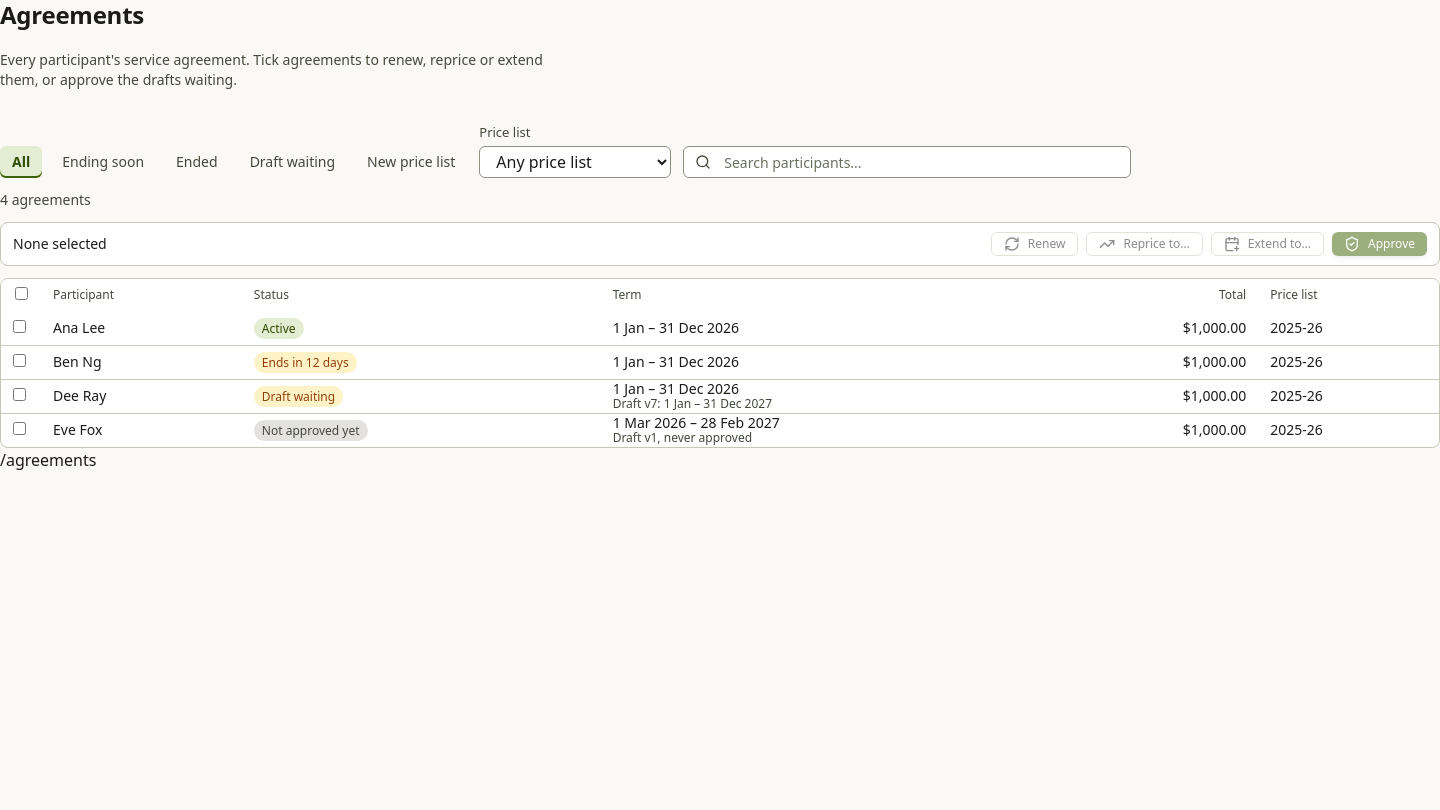
Scenario: AgreementsPage › tells a 403 the role cannot approve, with no "Try again"
The width and height of the screenshot is (1440, 810).
What coordinates should you click on to do the following:
click the checkbox named "Select row Dee Ray"
I would click on:
 (20, 395)
Its box is [13,388,26,401].
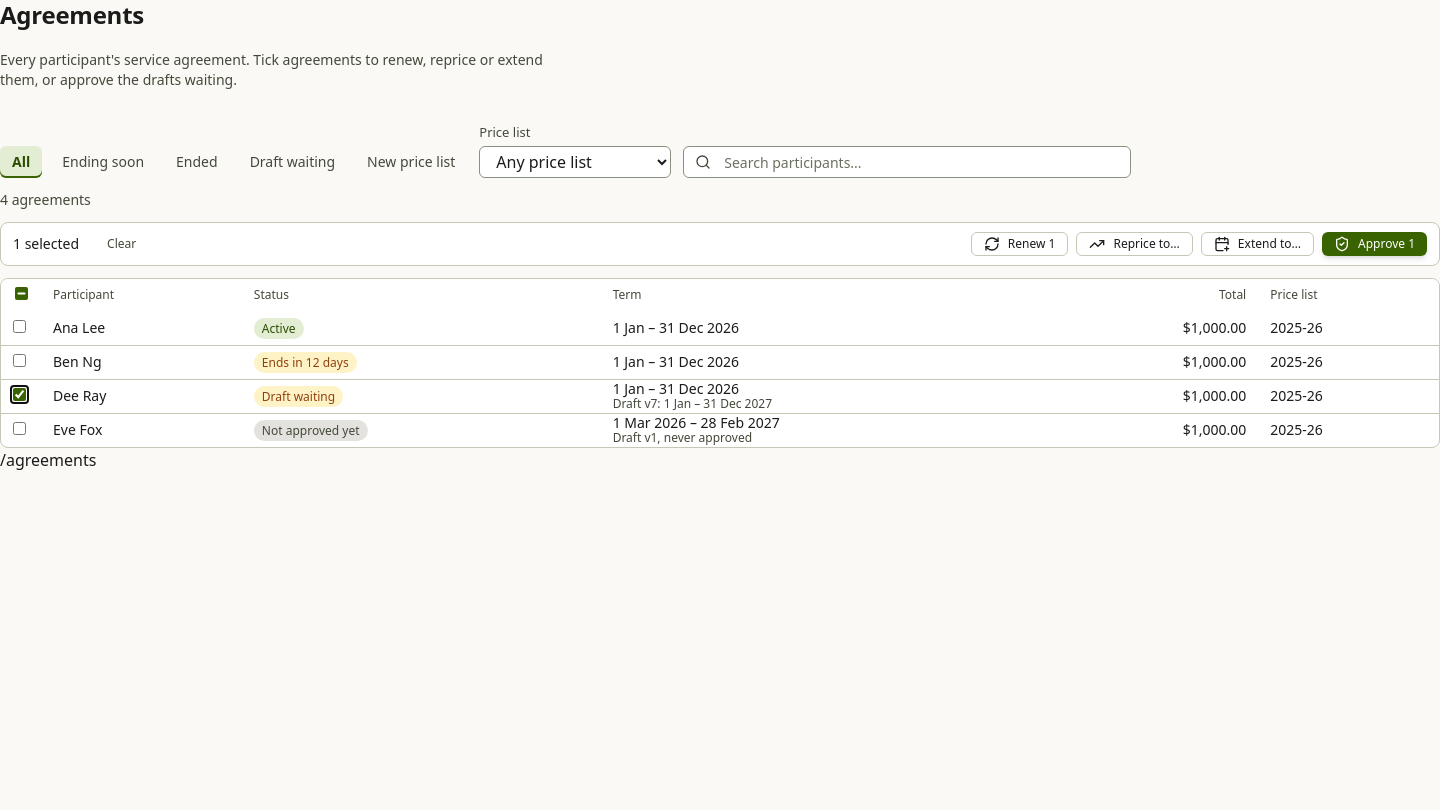
What coordinates should you click on to do the following:
click the button "Approve 1"
I would click on:
 (1374, 244)
Its box is [1322,232,1427,256].
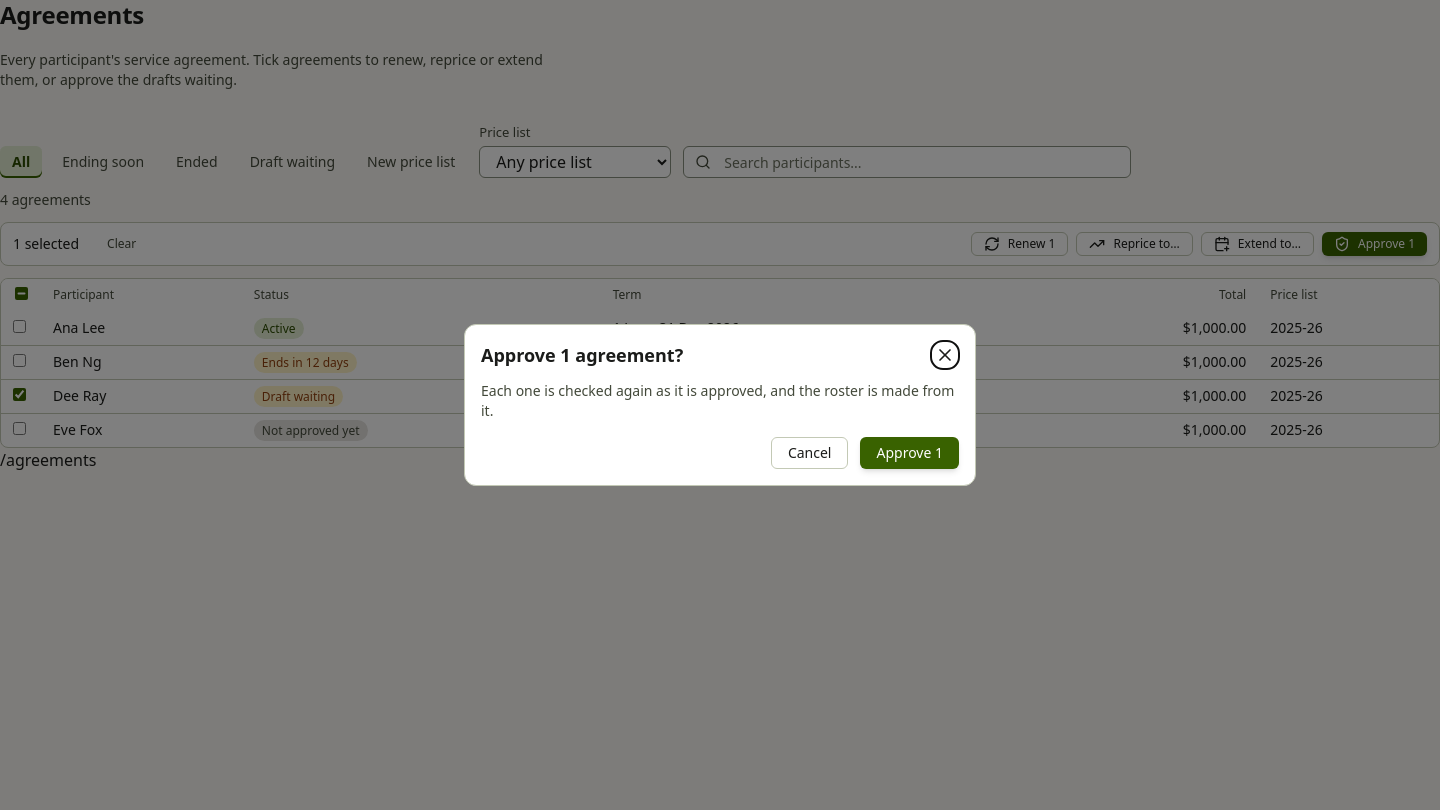
What coordinates should you click on to do the following:
click the button "Approve 1"
I would click on:
 (910, 453)
Its box is [860,437,959,469].
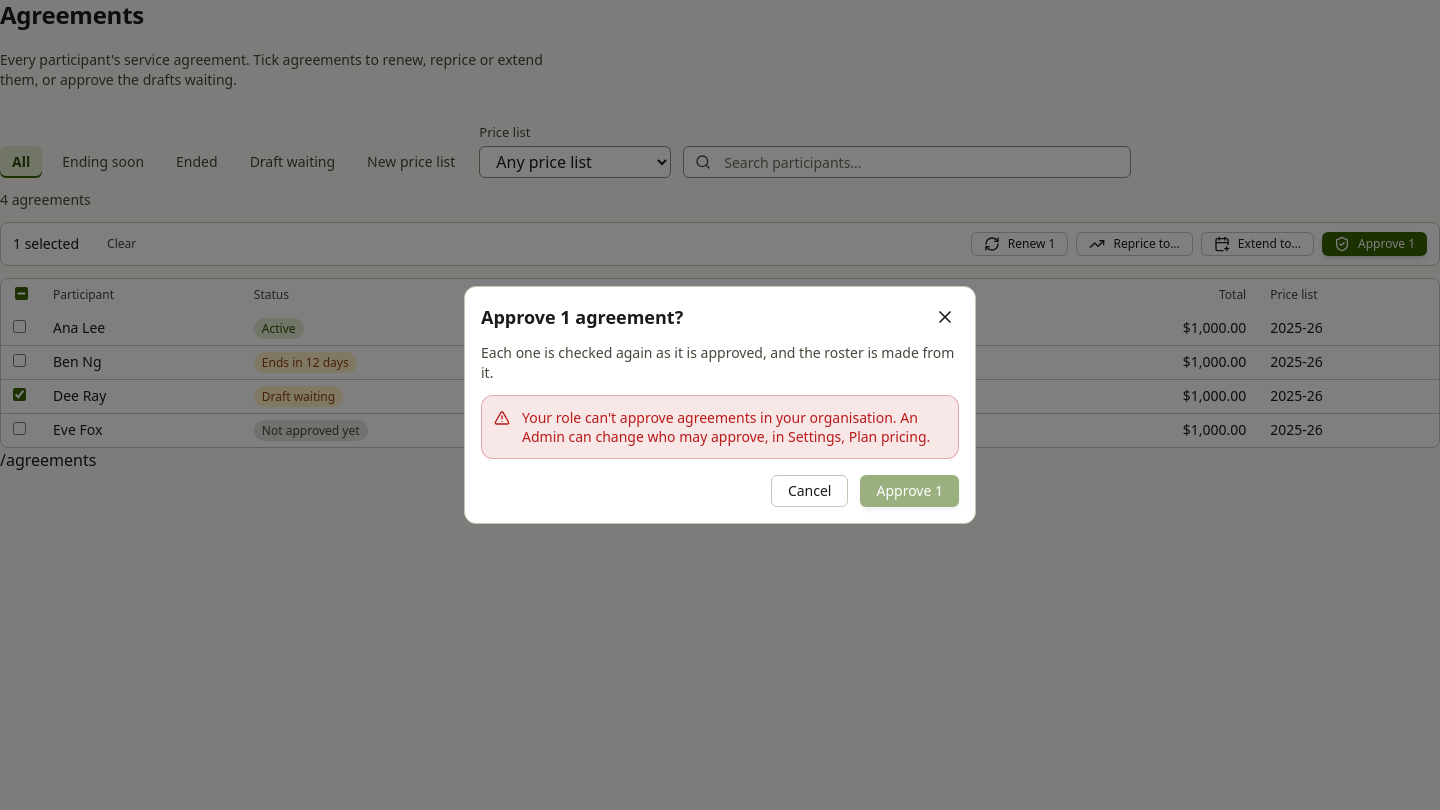
Expected: the button "Cancel" is enabled, [771,475,848,507]
Expected: the text "Your role can't approve agreements" shows "An Admin can change who may approve, in Settings, Plan pricing.", [522,408,930,446]
Expected: the button "Approve 1" is disabled, [860,475,959,507]
